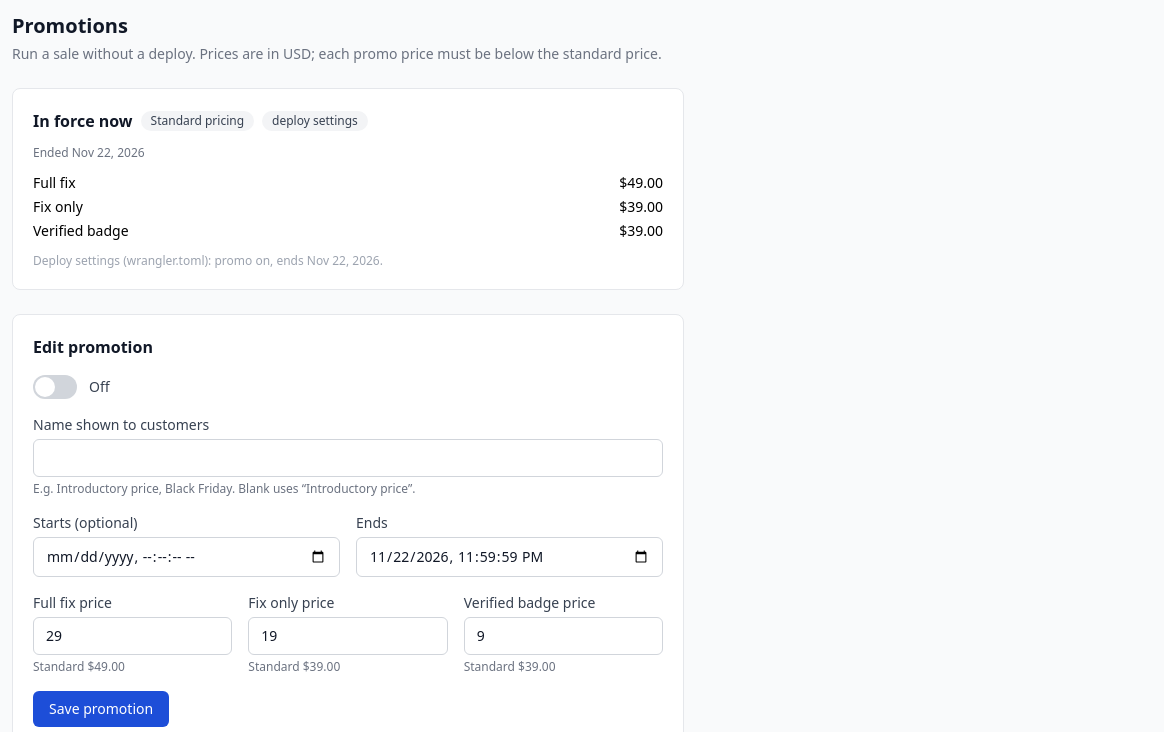
Test: AdminPromo › saves prices in minor units with the name, then reflects the new effective promo
Expected: the text "Standard pricing" is shown, 141,111 -> 254,131
Click the switch named "Promotion on" at (55, 387), box 33,375 -> 77,399
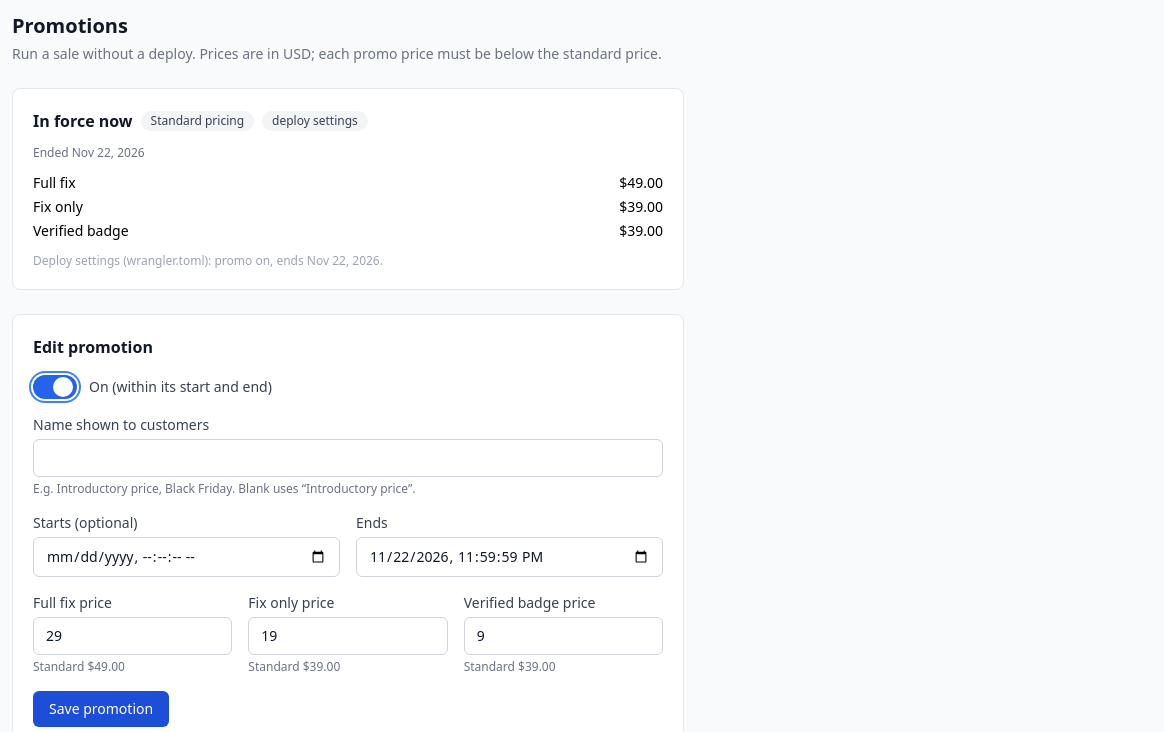
Type "Black Friday" into the field labelled "Name shown to customers" at (348, 458), box 33,439 -> 663,477
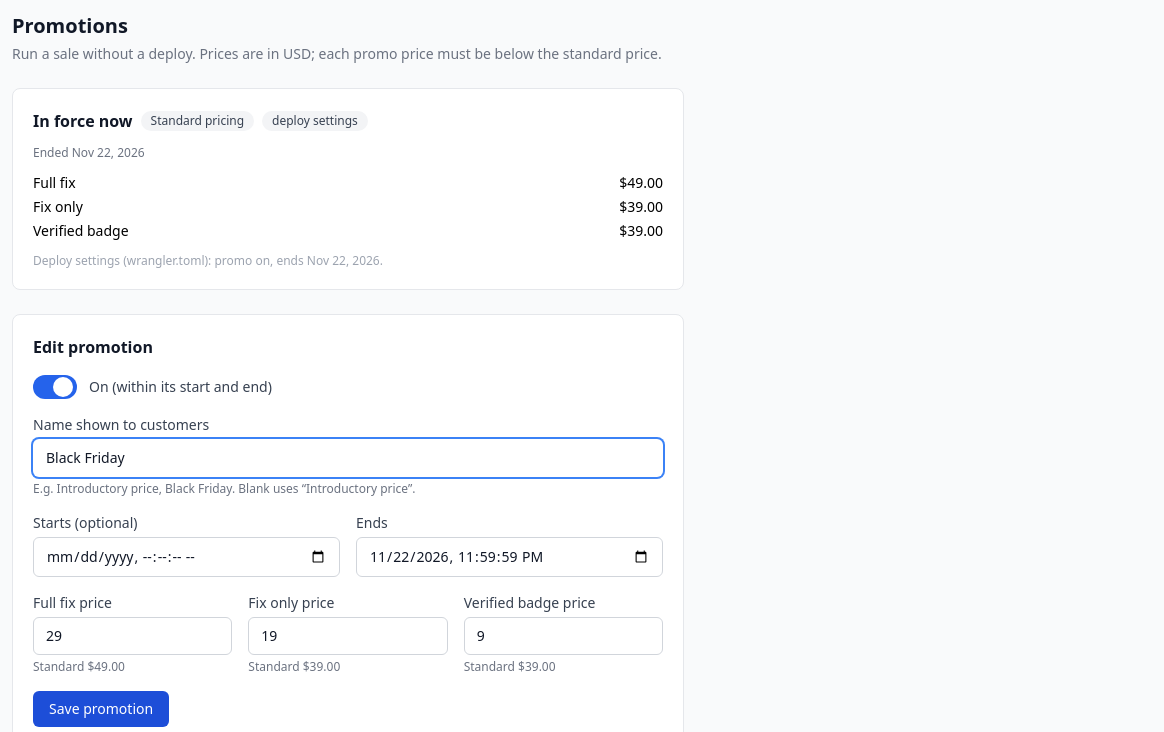
Replace the text in the field labelled "Full fix price" with "25" at (133, 636), box 33,617 -> 232,655
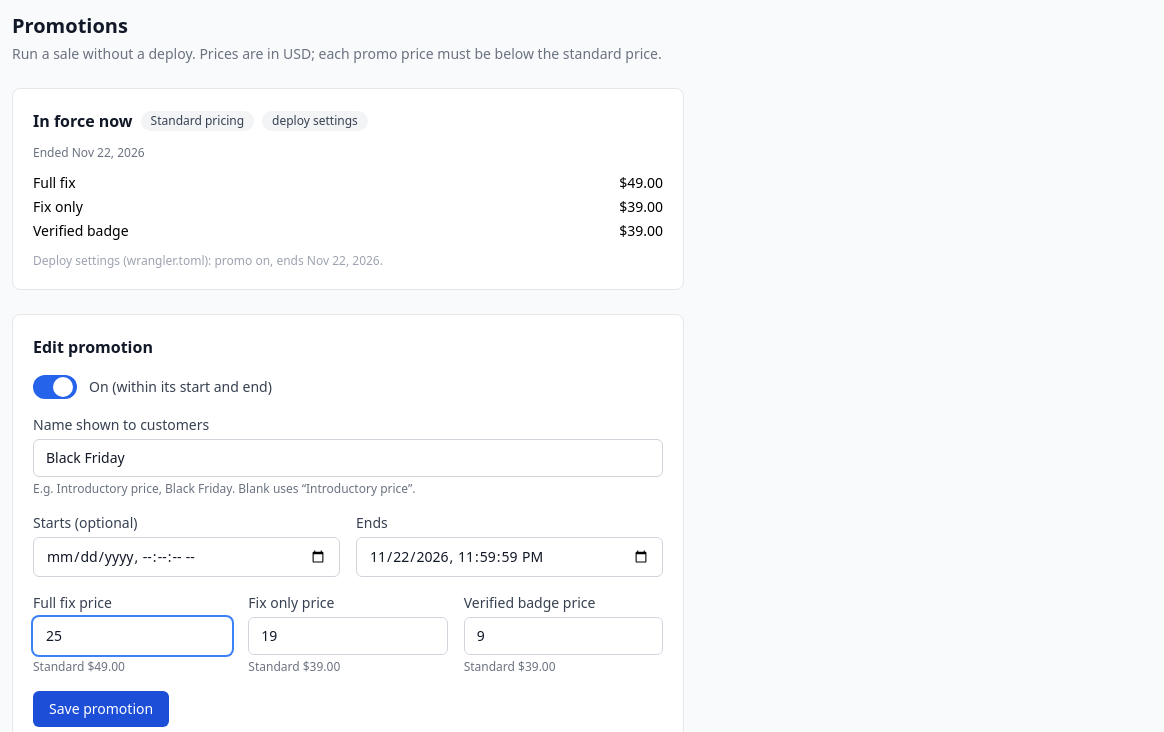
Click the button "Save promotion" at (101, 709), box 33,691 -> 169,727
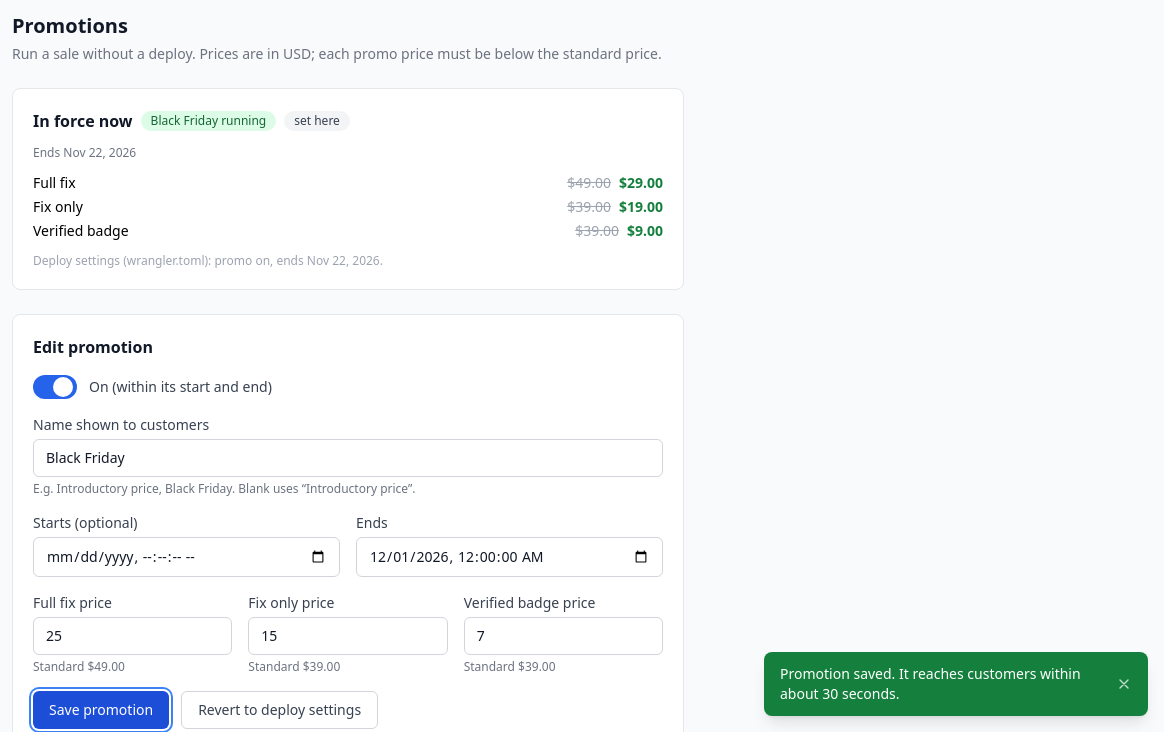
Now the text "Black Friday running" is shown, box 141,111 -> 276,131
Now the button "Revert to deploy settings" is shown, box 181,691 -> 378,729
